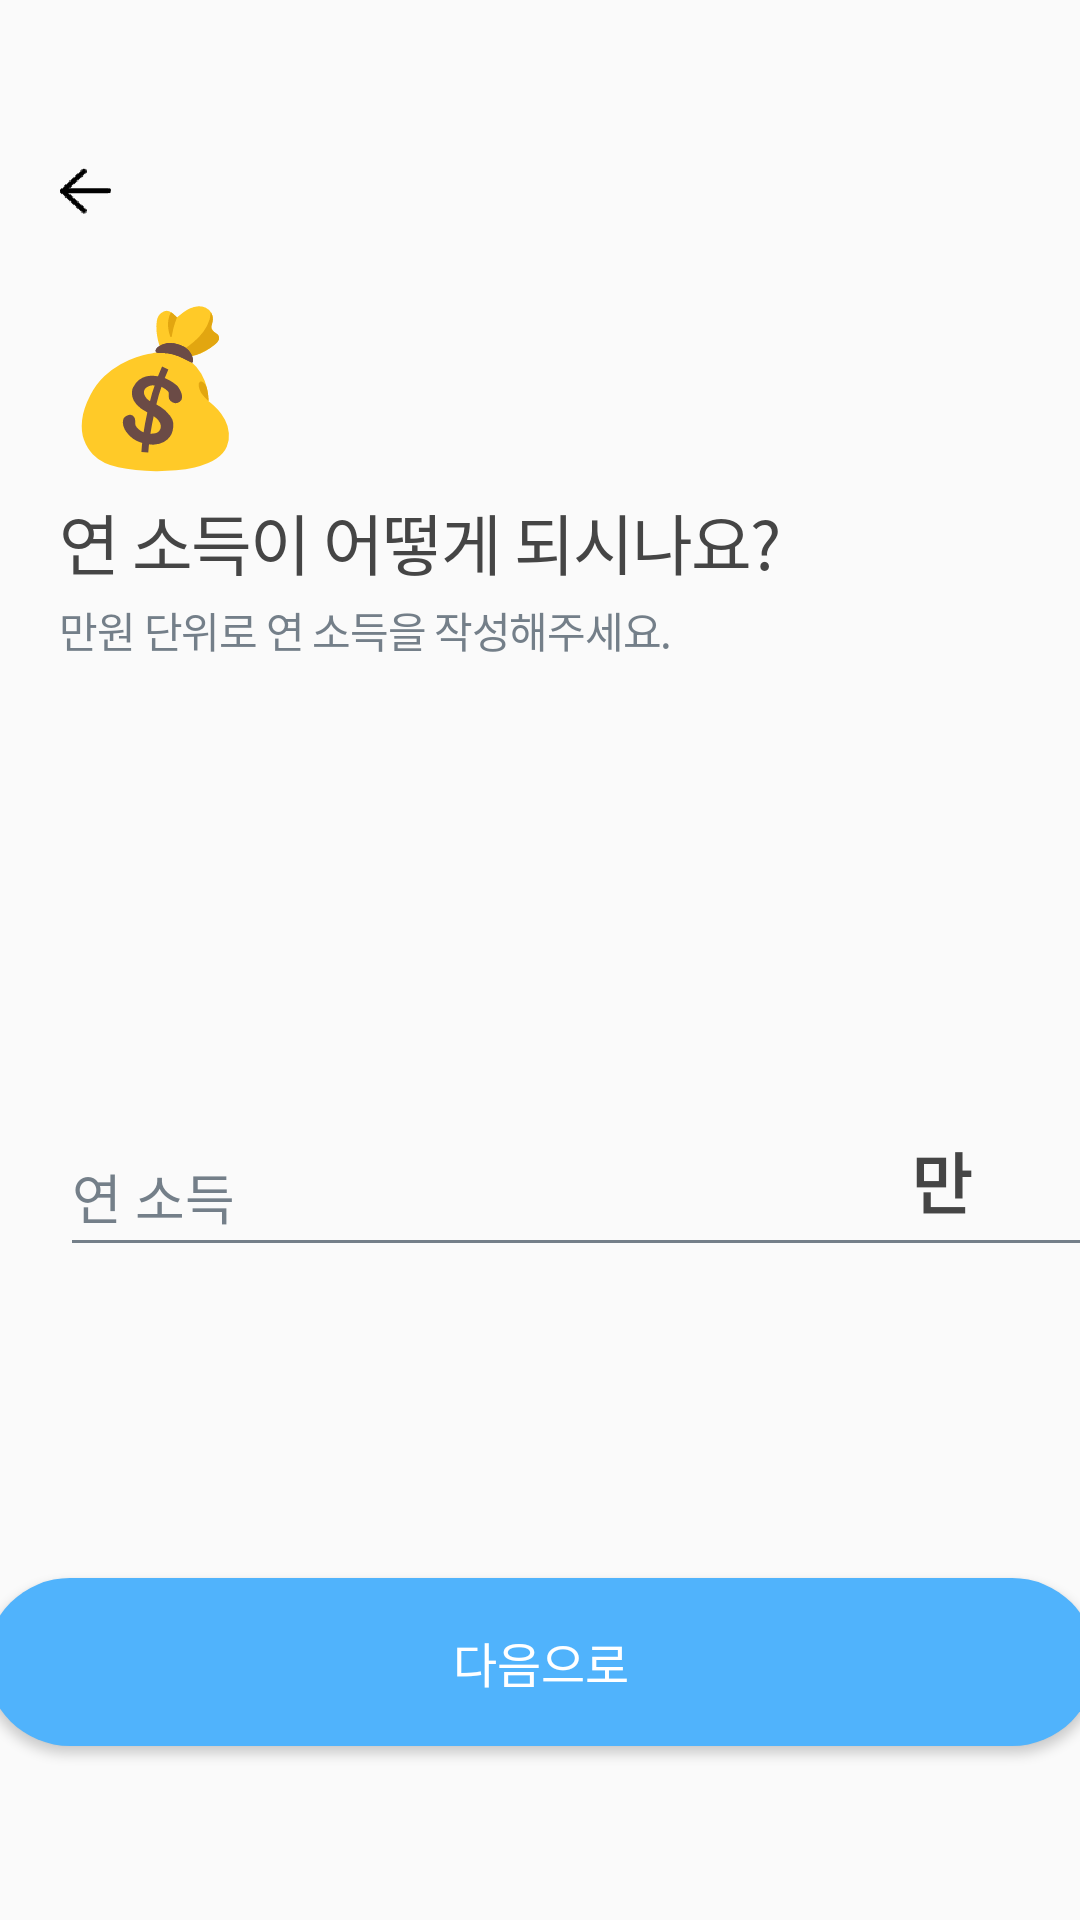

Where icons sit on this 1080px×1920px app screen, as box(x1, y1, x2, y2):
before: box(60, 168, 111, 214)
